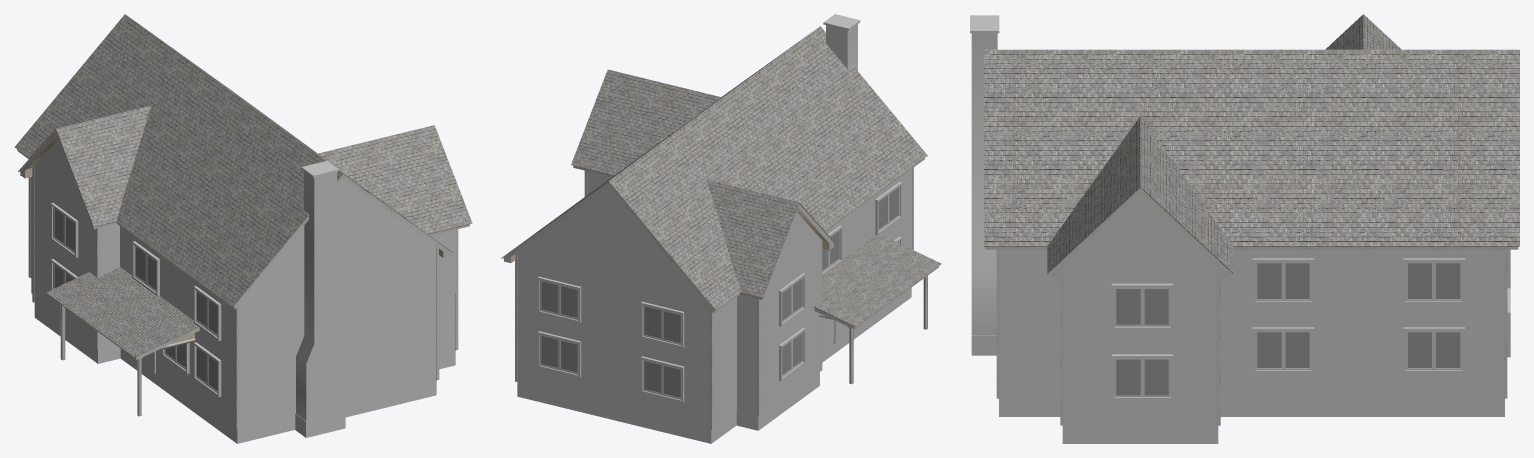
Rendered from Background_House_B.FBX.
The picture shows the model from 3 angles, left to right: view 1: azimuth 30°, elevation 25°; view 2: azimuth 150°, elevation 25°; view 3: azimuth 270°, elevation 25°; orthographic projection. The views are drawn at different scales.
Visible parts, largest first — view 1: Background_House_B; view 2: Background_House_B; view 3: Background_House_B.
Part boxes in pixels (x1,y1,x2,y2): Background_House_B: (14, 14, 472, 443); Background_House_B: (501, 14, 941, 443); Background_House_B: (970, 14, 1519, 443).
Bounding box in the file's own units: 1433 × 1110 × 1725.
